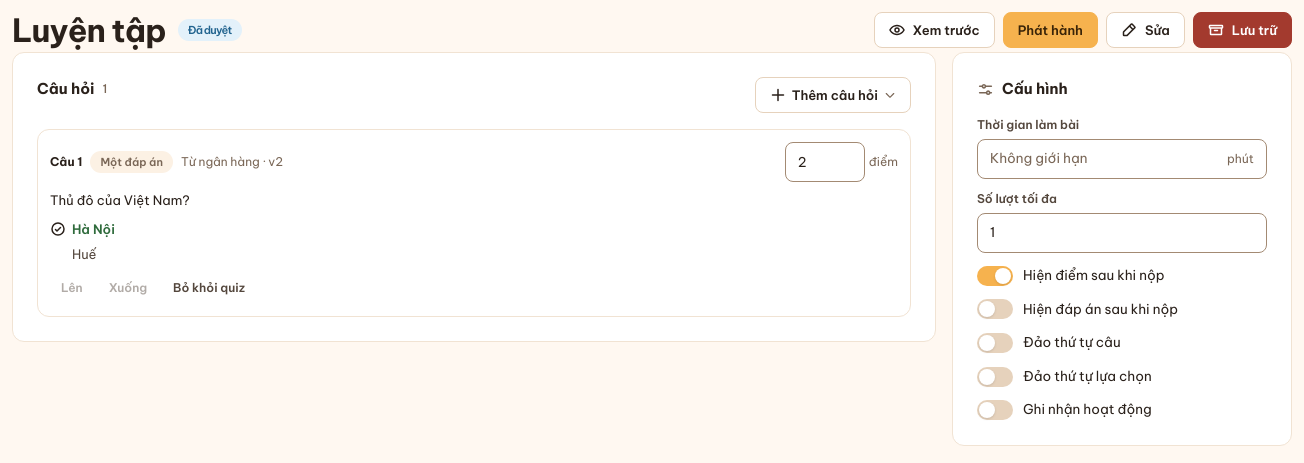
Test: QuizDetailPage › quiz đã duyệt có nút phát hành
Click the button with test id "quiz-detail-publish". click: coordinates (1050, 30)
box: [1003, 12, 1098, 48]
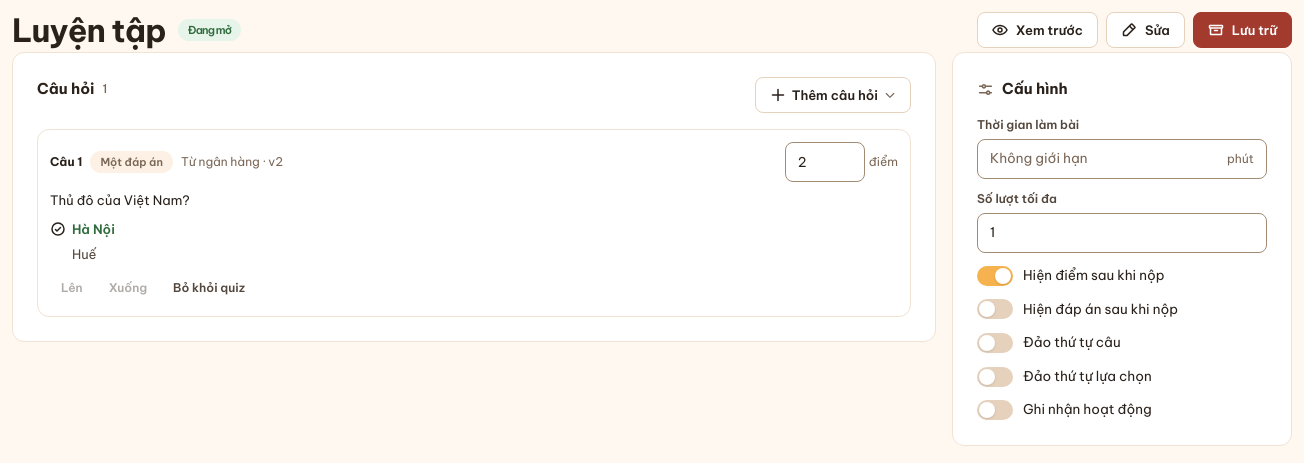
Check: the button with test id "quiz-detail-edit" is shown, box [1106, 12, 1185, 48]
Check: the text "Đang mở" is shown, box [178, 19, 241, 41]
